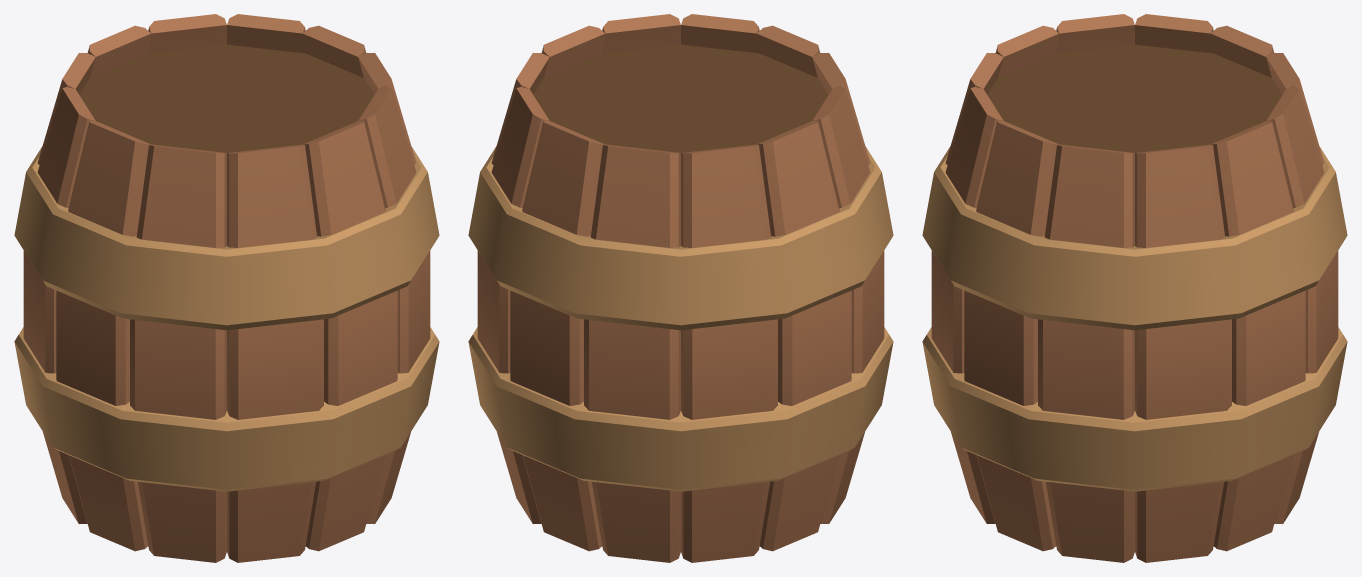
Rendered from SM_Item_01.fbx.
3 views of the same model, side by side, from view 1: azimuth 30°, elevation 25°; view 2: azimuth 150°, elevation 25°; view 3: azimuth 270°, elevation 25° (orthographic).
Visible parts, largest first — view 1: Barrel_02.004; view 2: Barrel_02.004; view 3: Barrel_02.004.
Boxes of the visible parts, x1,y1,x2,y2 form: Barrel_02.004: (14,14,439,562); Barrel_02.004: (468,14,893,562); Barrel_02.004: (922,14,1347,562).
Bounding box in the file's own units: 2.36 × 2.52 × 2.36.
